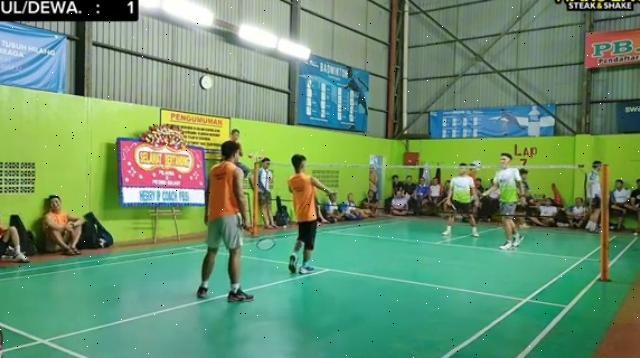Shuttlecock: (332, 202, 342, 210)
